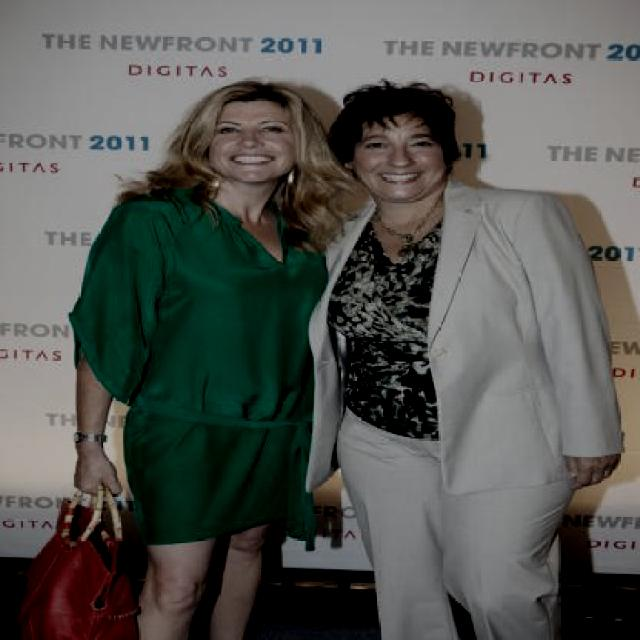Person: (299, 71, 623, 640), (70, 68, 368, 640)
